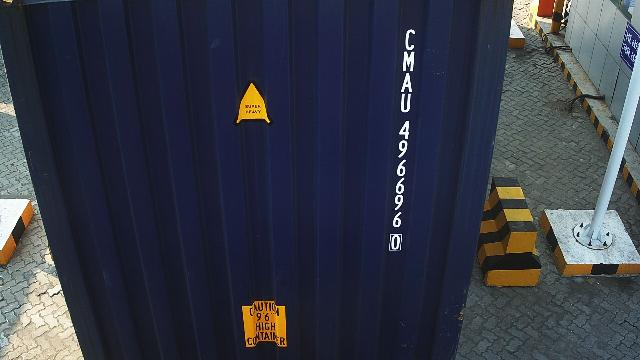0: (390, 234, 402, 250)
4: (398, 120, 409, 140)
6: (392, 210, 402, 228), (395, 176, 405, 194), (396, 159, 406, 177)
9: (398, 139, 408, 158), (394, 194, 404, 210)
A: (400, 73, 412, 93)
C: (404, 29, 416, 51)
M: (402, 52, 416, 72)
U: (401, 93, 412, 113)
